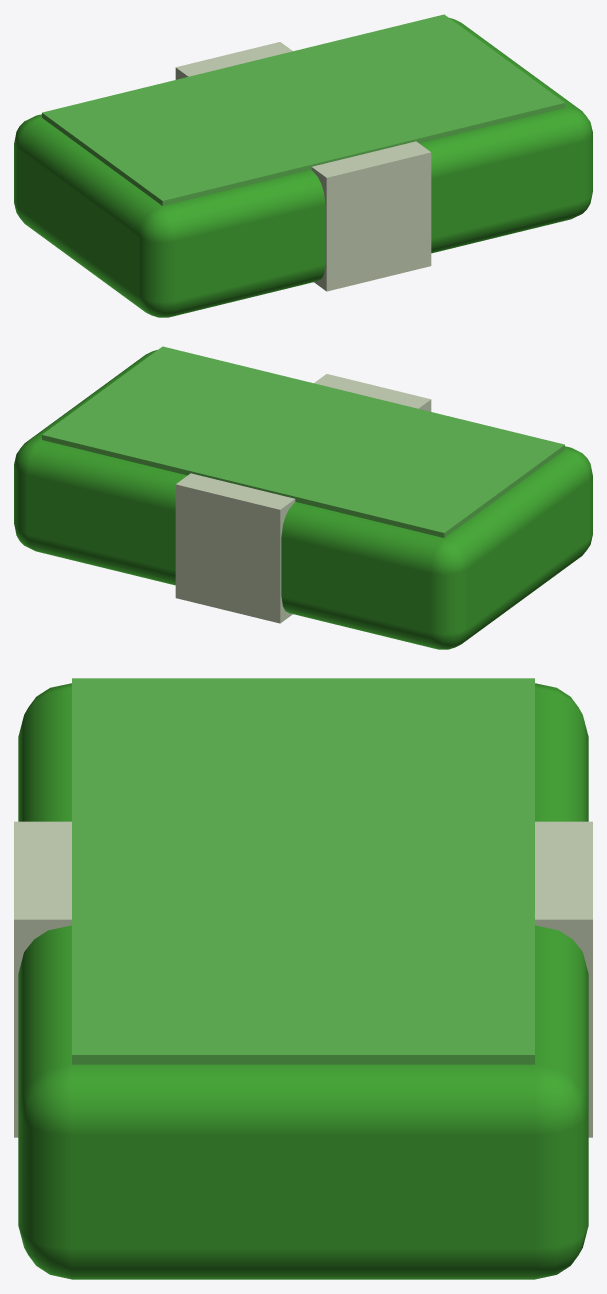
File: cash_bundle.glb
3 renders of one model, top to bottom at view 1: azimuth 30°, elevation 25°; view 2: azimuth 150°, elevation 25°; view 3: azimuth 270°, elevation 25°, orthographic. The views are drawn at different scales.
Visible parts, largest first — view 1: Bundle; view 2: Bundle; view 3: Bundle.
Boxes of the visible parts, x1,y1,x2,y2 form: Bundle: [14, 14, 592, 317]; Bundle: [14, 346, 592, 649]; Bundle: [14, 678, 592, 1279].
Bounding box in the file's own units: 0.56 × 0.1375 × 0.325.
